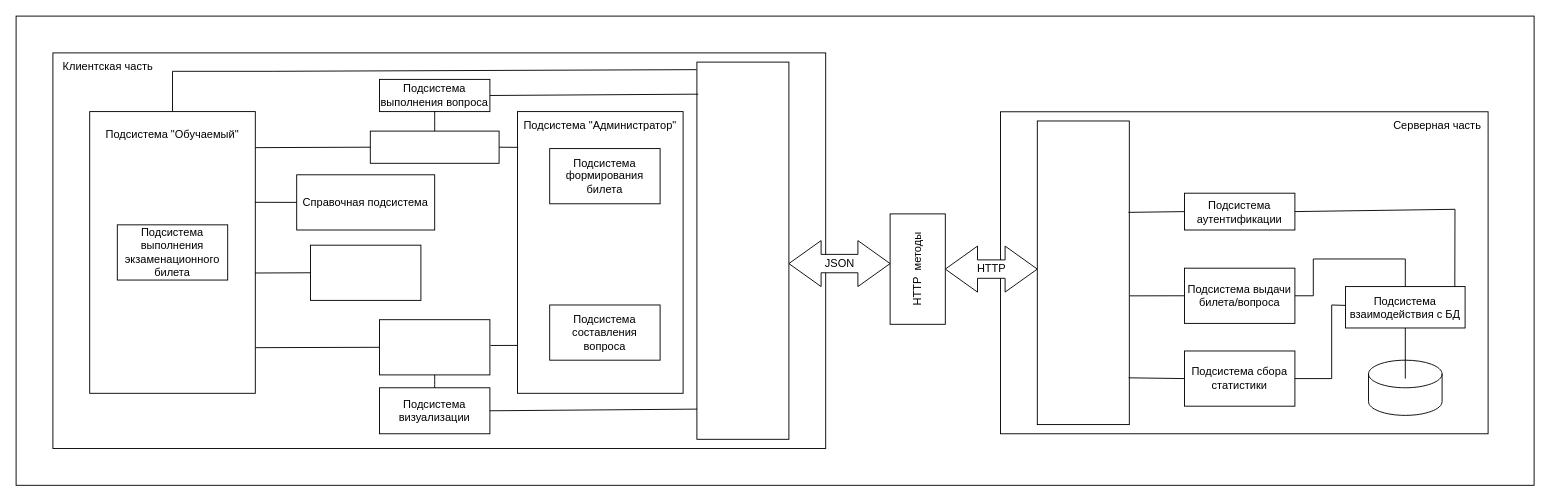
The diagram is 1550 pixels wide and 501 high, and some of its shapes have lost their labels. Here are the shapes that lost their labels. From the top down, the centre of each, then its label:
At (434,146): "Подсистема авторизации".
At (742,250): "Подсистема взаимодействия с серверной частью".
At (365,272): "Подсистема проверки пдд выбора обучаемого".
At (1082,272): "Подсистема взаимодействия с клиентской частью".
At (434,347): "Подсистема просмотра статистики".
At (1405,387): "БД".
